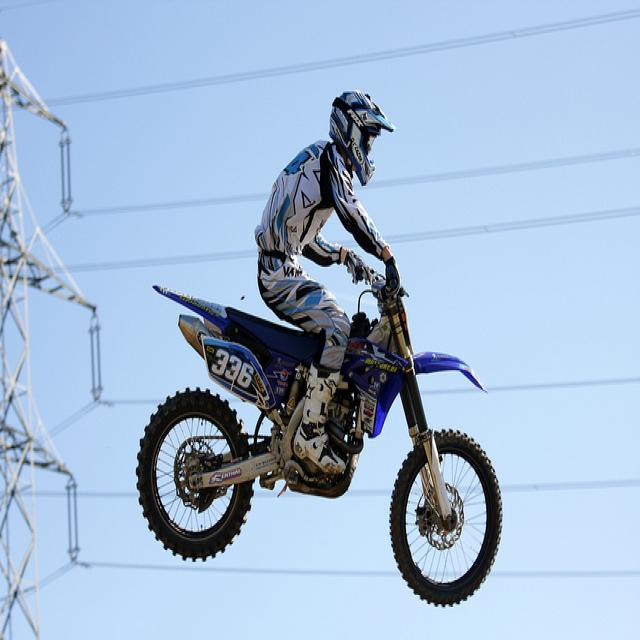motor: (137, 261, 504, 606)
